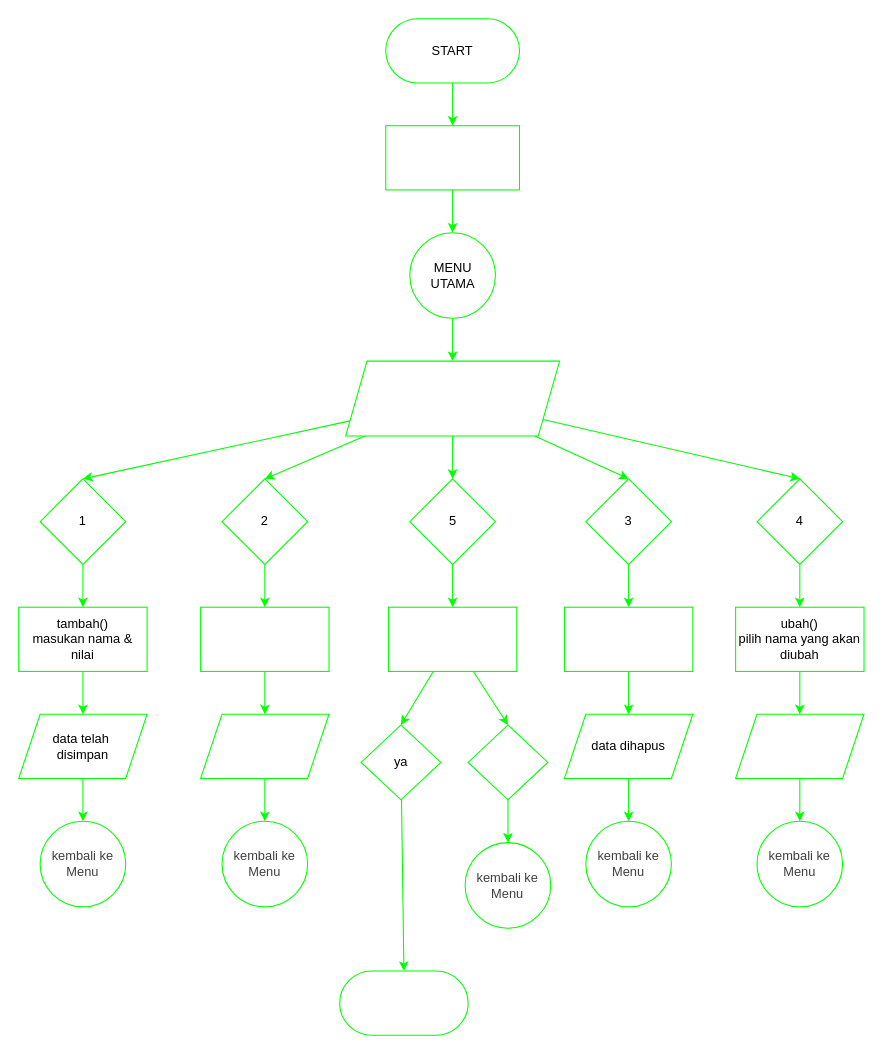
Image size: 883x1054. Some labels were removed from this diagram. Here are the shapes that lost their labels. From the top down, the centre of each, then its label:
At (x=452, y=157): "Inisialisasi: data_mahasiswa = []".
At (x=452, y=398): "Tampilkan Menu (1-Tambah, 2-Tampil, 3-Hapus, 4-Ubah, 5-Keluar) & Input Pilihan".
At (x=264, y=638): "tampilkan() tampilkan hasil dari (1, 2, 3 dan 4)".
At (x=452, y=638): "keluar() apakah data selesai?".
At (x=628, y=638): "hapus() pilih nama yang akan dihapus".
At (x=264, y=745): "data ditampilkan".
At (x=507, y=762): "tidak".
At (x=799, y=745): "data diubah".
At (x=403, y=1002): "END".
